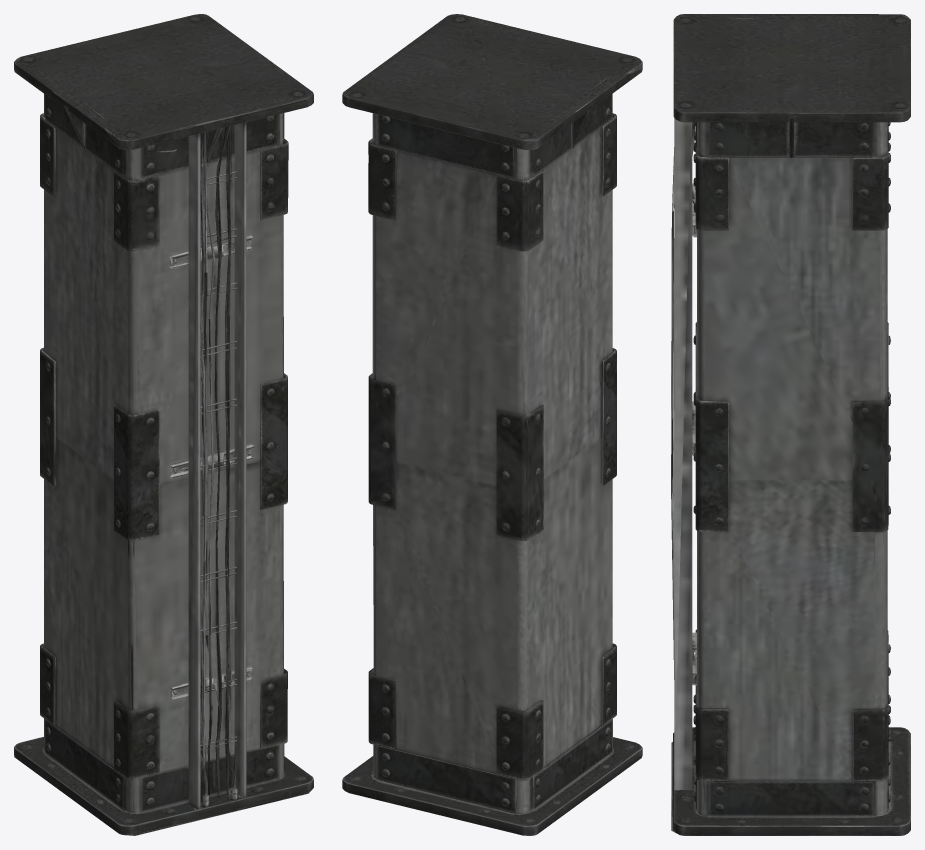
File: datacenter_pillar.glb
The picture shows the model from 3 angles, left to right: view 1: azimuth 30°, elevation 25°; view 2: azimuth 150°, elevation 25°; view 3: azimuth 270°, elevation 25°; orthographic projection. The views are drawn at different scales.
Bounding box in the file's own units: 0.2846 × 0.9512 × 0.2857.
1 material, 1 textured.
